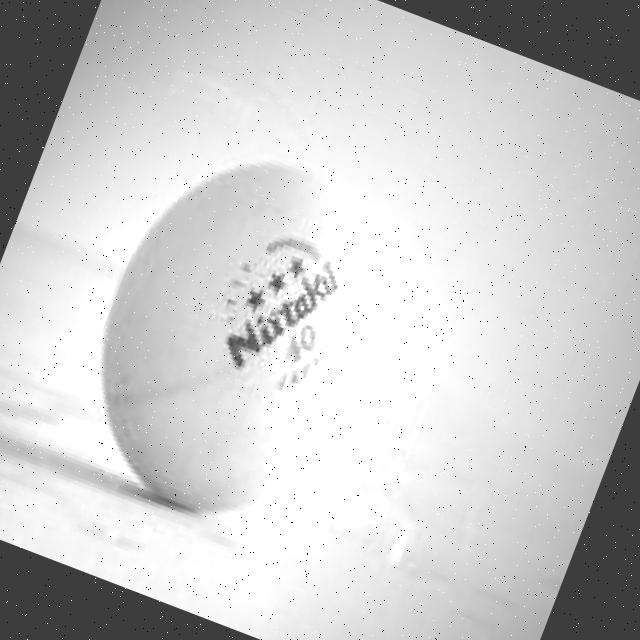ping-pong-ball: (46, 113, 438, 560)
